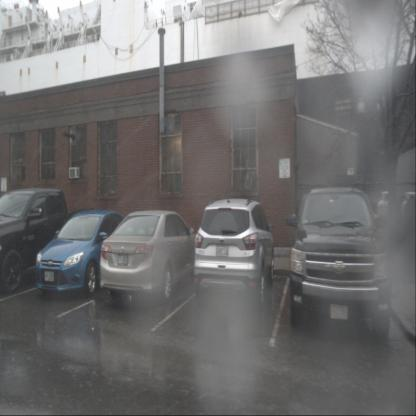vehicle-car: (290, 187, 390, 337), (100, 210, 202, 300), (194, 198, 275, 306), (35, 209, 131, 295)
vehicle-truck: (0, 186, 95, 293)
